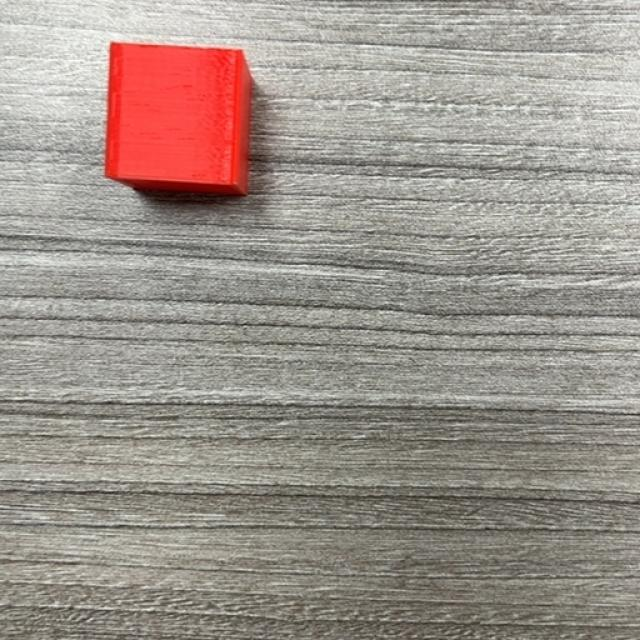Rojo: (104, 41, 255, 199)
